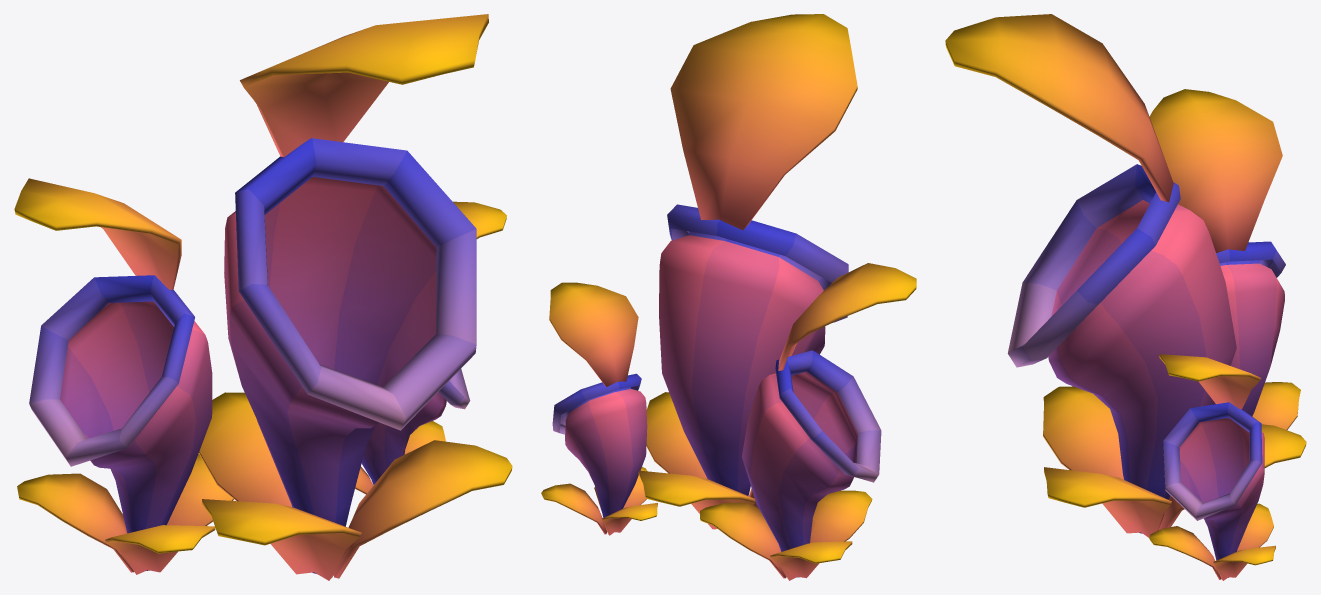
The model's file is anp_PlantFlower_2.fbx.
3 renders of one model, left to right at view 1: azimuth 30°, elevation 25°; view 2: azimuth 150°, elevation 25°; view 3: azimuth 270°, elevation 25°, orthographic. The views are drawn at different scales.
Parts seen in each view (by area): view 1: pf2; view 2: pf2; view 3: pf2.
Boxes of the visible parts, x1,y1,x2,y2 form: pf2: (14, 14, 512, 580); pf2: (541, 14, 916, 580); pf2: (945, 14, 1306, 580).
Size of the model in its own units: 135 by 161 by 107.
